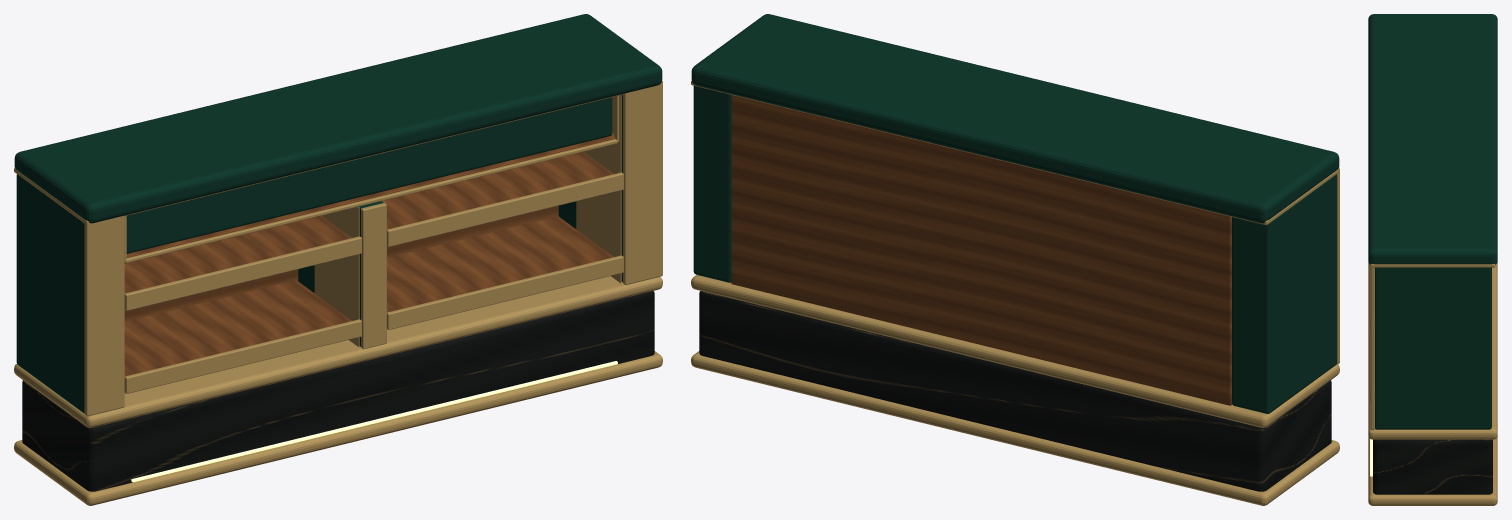
3 views of the same model, side by side, from view 1: azimuth 30°, elevation 25°; view 2: azimuth 150°, elevation 25°; view 3: azimuth 270°, elevation 25° (orthographic). The views are drawn at different scales.
Parts seen in each view (by area): view 1: cabinet_crown, cabinet_stone_base, brand_header_panel, trim_base_top, cabinet_left_pillar, shelf_1_left, shelf_1_right, trim_base_plinth, trim_left_front, trim_right_front, shelf_2_left, shelf_2_right (+12 smaller); view 2: cabinet_back, cabinet_crown, cabinet_stone_base, cabinet_left_pillar, trim_base_top, trim_base_plinth, cabinet_right_pillar, trim_crown_lip; view 3: cabinet_crown, cabinet_right_pillar, cabinet_stone_base, trim_base_top, trim_base_plinth, trim_right_front, trim_crown_lip.
Boxes of the visible parts, x1,y1,x2,y2 form: cabinet_crown: [14, 14, 662, 223]; cabinet_stone_base: [22, 291, 654, 491]; brand_header_panel: [126, 97, 612, 253]; trim_base_top: [14, 276, 662, 427]; cabinet_left_pillar: [16, 174, 84, 413]; shelf_1_left: [124, 280, 351, 376]; shelf_1_right: [387, 216, 613, 312]; trim_base_plinth: [14, 351, 662, 505]; trim_left_front: [84, 216, 124, 416]; trim_right_front: [623, 84, 662, 284]; shelf_2_left: [124, 215, 351, 293]; shelf_2_right: [383, 152, 613, 229]; cabinet_back: [731, 95, 1232, 405]; cabinet_crown: [691, 14, 1339, 223]; cabinet_stone_base: [699, 291, 1331, 491]; cabinet_left_pillar: [1232, 174, 1337, 413]; trim_base_top: [691, 275, 1339, 427]; trim_base_plinth: [691, 351, 1339, 505]; cabinet_right_pillar: [693, 86, 731, 282]; trim_crown_lip: [691, 80, 1339, 225]; cabinet_crown: [1368, 14, 1497, 264]; cabinet_right_pillar: [1375, 267, 1491, 429]; cabinet_stone_base: [1373, 439, 1492, 494]; trim_base_top: [1368, 262, 1497, 439]; trim_base_plinth: [1368, 437, 1497, 505]; trim_right_front: [1370, 267, 1374, 430]; trim_crown_lip: [1370, 263, 1495, 267].
Size of the model in its own units: 2.4 by 1.2 by 0.55.
Materials: 5 (2 with a texture image).
